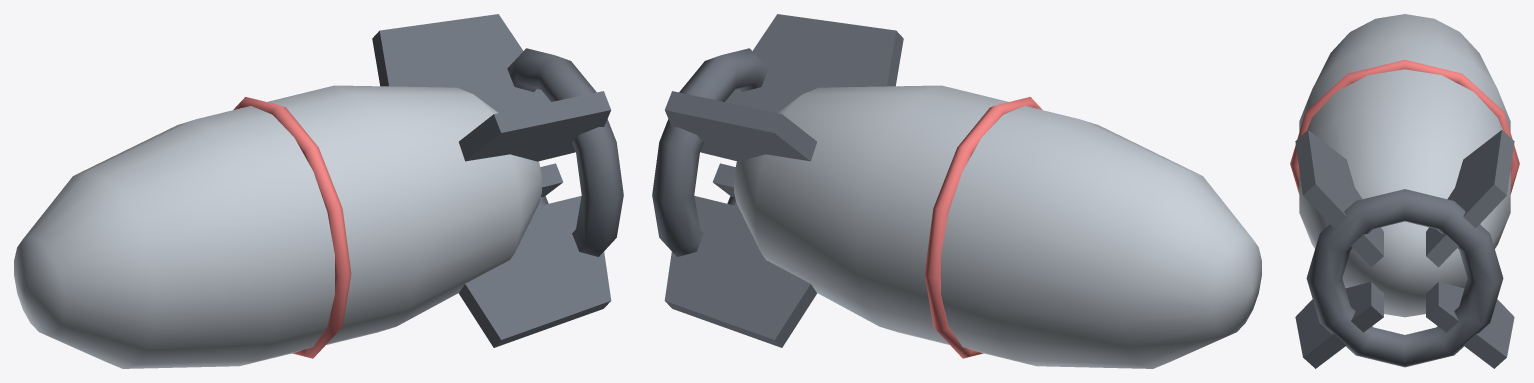
File: FuelAirBomb.fbx
3 renders of one model, left to right at view 1: azimuth 30°, elevation 25°; view 2: azimuth 150°, elevation 25°; view 3: azimuth 270°, elevation 25°, orthographic. The views are drawn at different scales.
Parts seen in each view (by area): view 1: FuelAirBomb; view 2: FuelAirBomb; view 3: FuelAirBomb.
Boxes of the visible parts, x1,y1,x2,y2 form: FuelAirBomb: (14, 14, 623, 368); FuelAirBomb: (652, 14, 1261, 368); FuelAirBomb: (1290, 14, 1519, 368).
Size of the model in its own units: 0.756 by 0.321 by 0.321.
